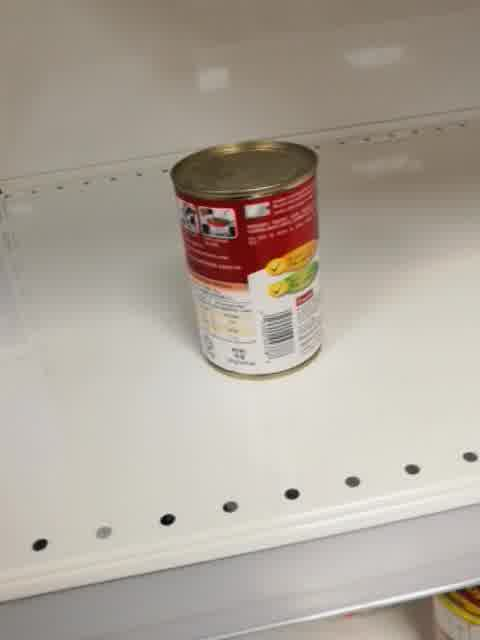tomatosoup: (170, 138, 325, 382)
